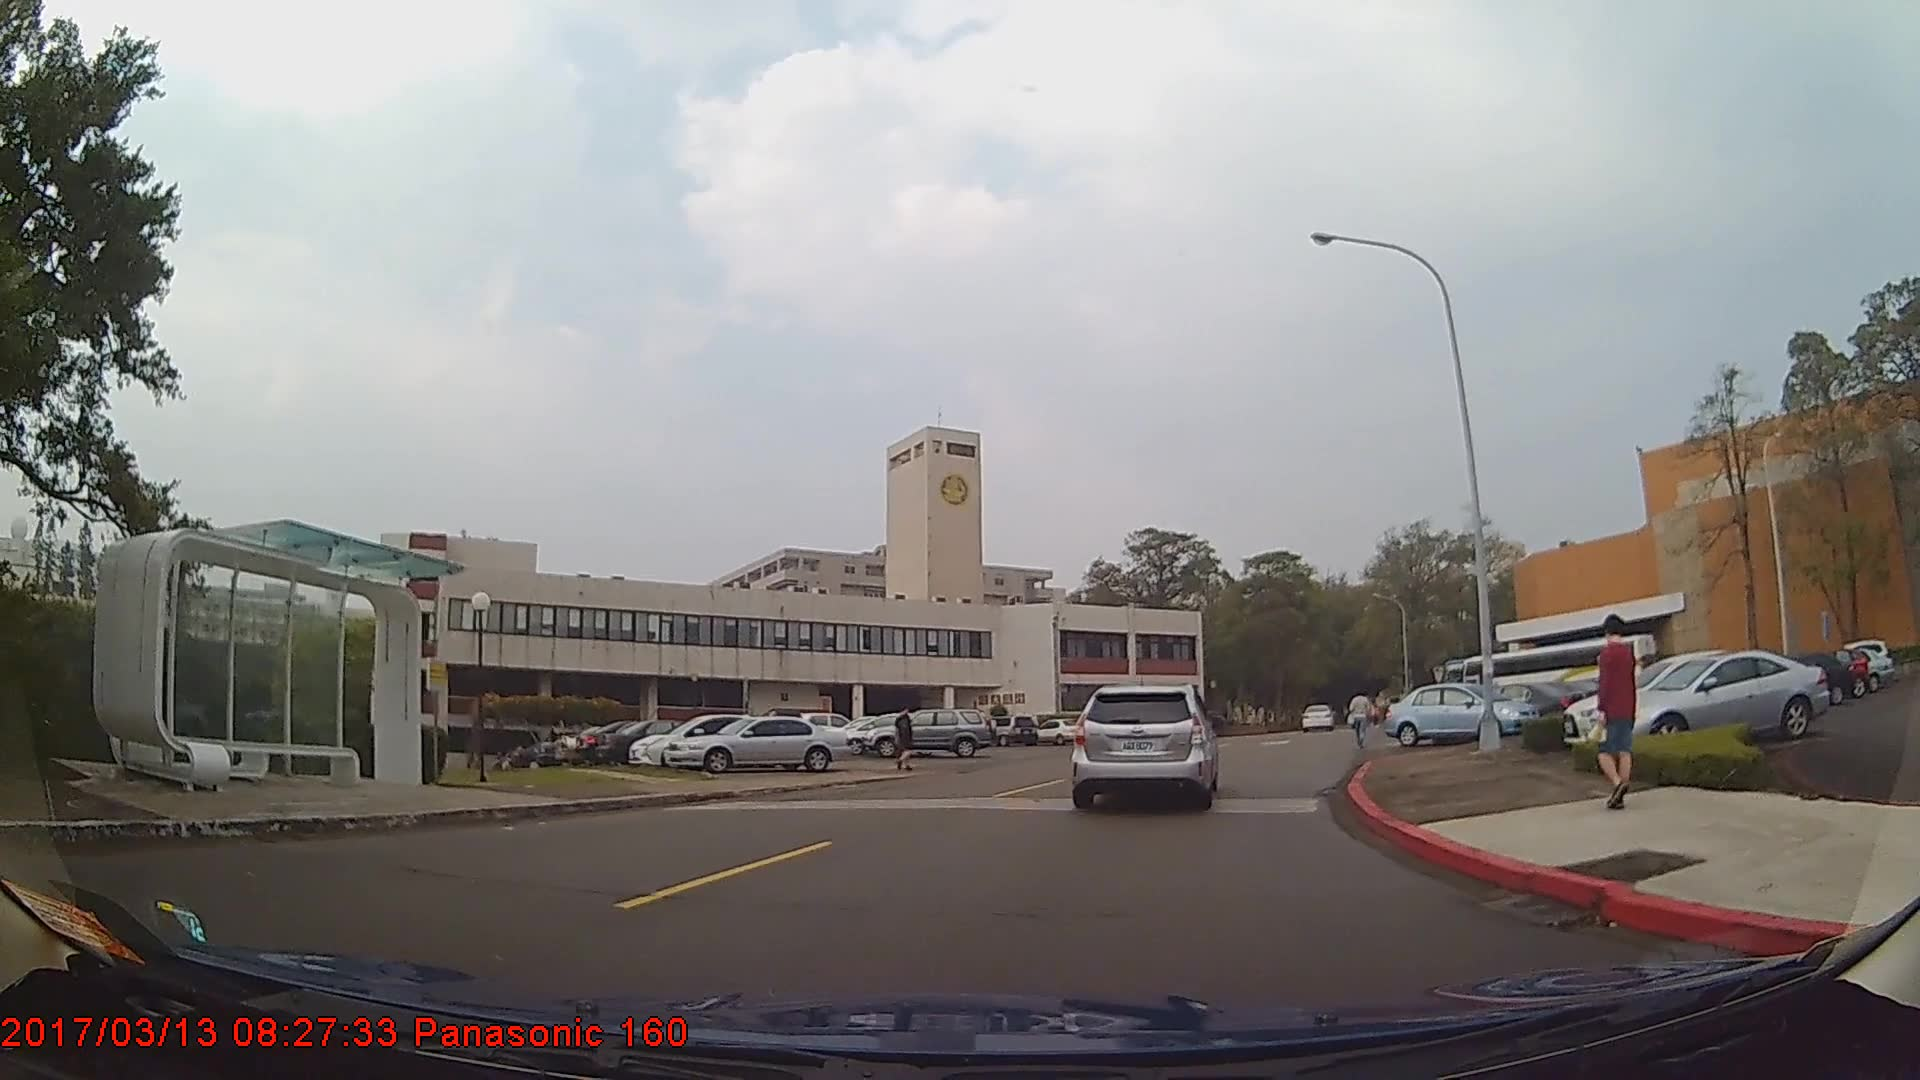pedestrian: (1590, 608, 1648, 814), (895, 704, 922, 775), (1350, 686, 1376, 749)
vehicle: (1599, 644, 1830, 740), (1562, 646, 1791, 743), (1068, 681, 1218, 810), (662, 716, 851, 773), (627, 710, 812, 766), (1382, 678, 1538, 745), (594, 718, 730, 768), (866, 707, 995, 756), (1743, 649, 1857, 704), (1301, 699, 1335, 731)
